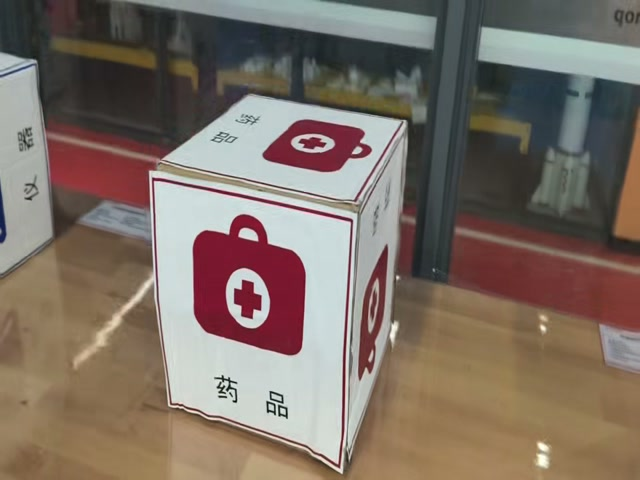Cube_medicine: (150, 90, 408, 213)
